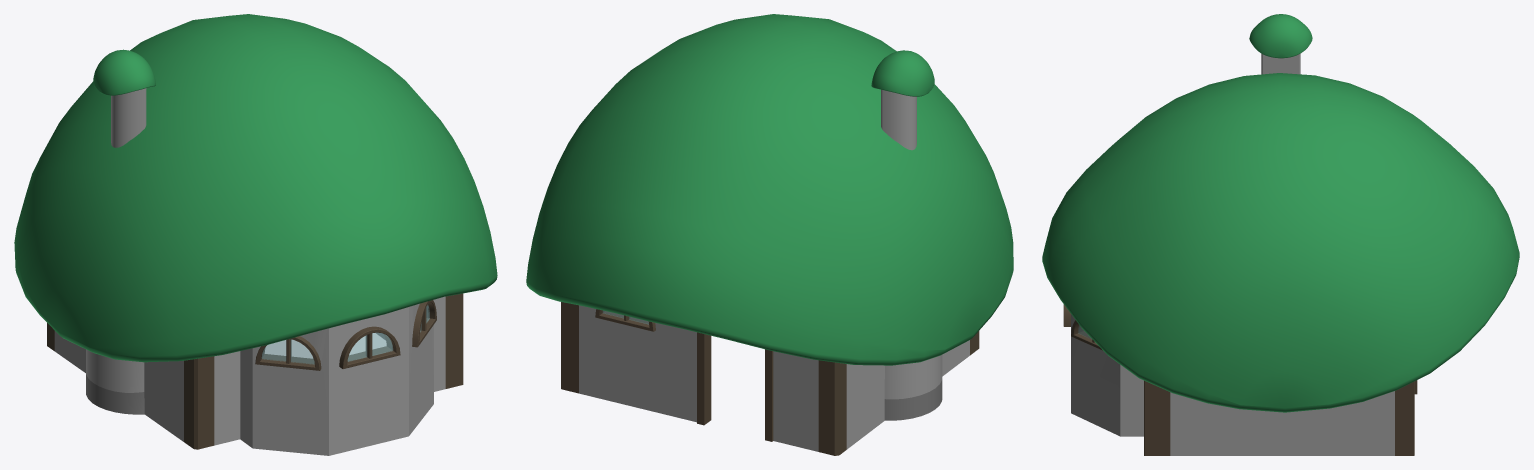
The model's file is HarvestHouse.fbx.
3 renders of one model, left to right at view 1: azimuth 30°, elevation 25°; view 2: azimuth 150°, elevation 25°; view 3: azimuth 270°, elevation 25°, orthographic. The views are drawn at different scales.
Parts seen in each view (by area): view 1: HarvestHouse; view 2: HarvestHouse; view 3: HarvestHouse.
Boxes of the visible parts, <box> form: HarvestHouse: <box>14,14,497,455</box>; HarvestHouse: <box>526,14,1013,455</box>; HarvestHouse: <box>1042,14,1519,455</box>.
Bounding box in the file's own units: 102 × 85.46 × 116.
